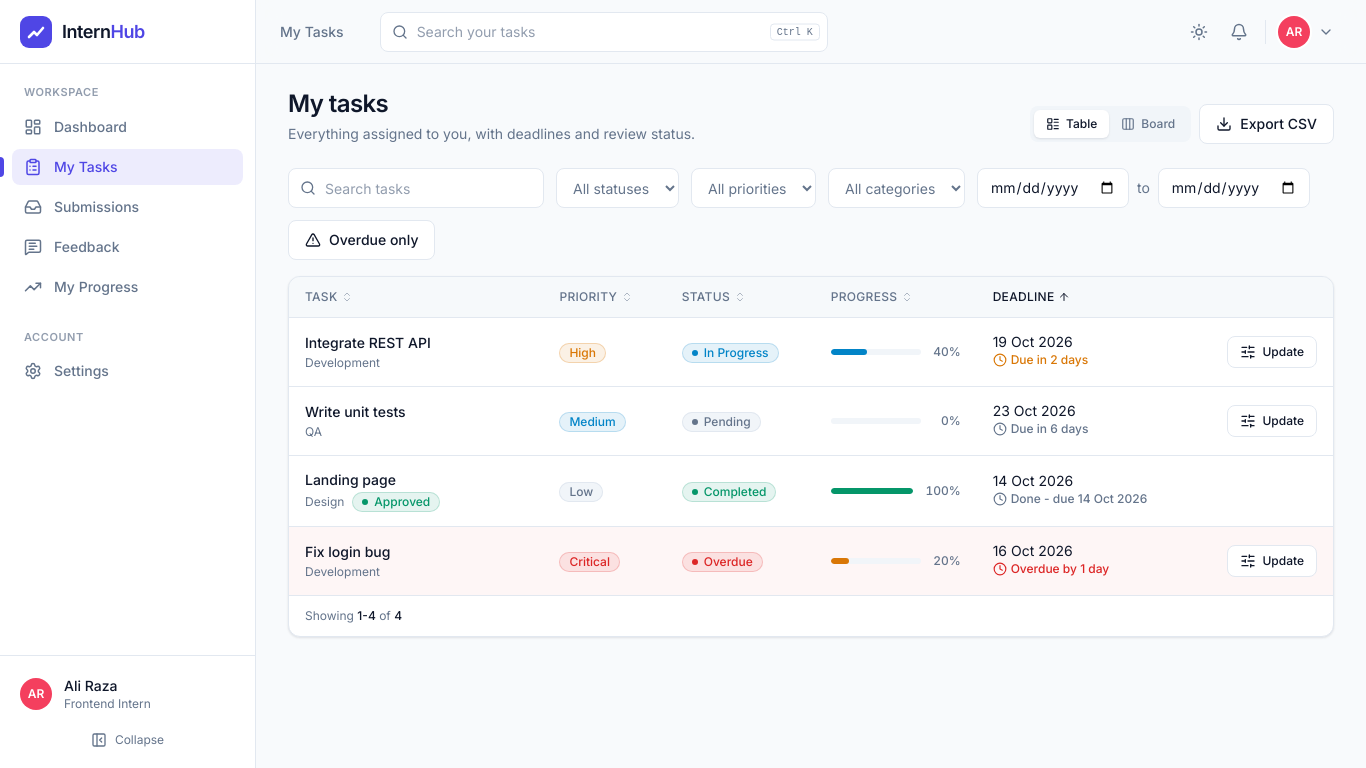
Test: my tasks › lists tasks, filters by status via the API and clears filters
Expected: the text "Integrate REST API" is shown, x1=305 y1=334 x2=431 y2=351
Expected: the text "Fix login bug" is shown, x1=305 y1=543 x2=390 y2=560
Select "Overdue" in the dropdown named "Status" at (618, 188), box x1=556 y1=168 x2=679 y2=208
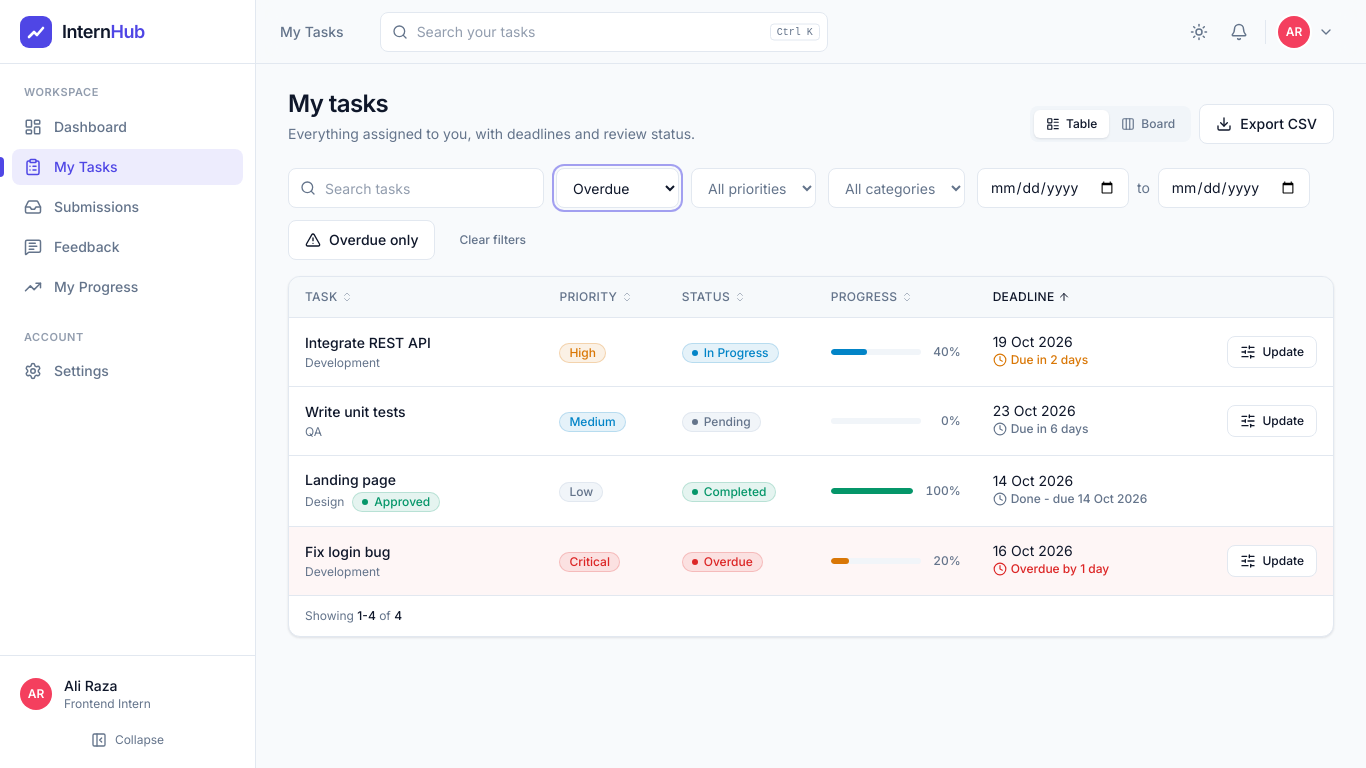
Now the button "Clear filters" is shown, box x1=448 y1=224 x2=538 y2=256
